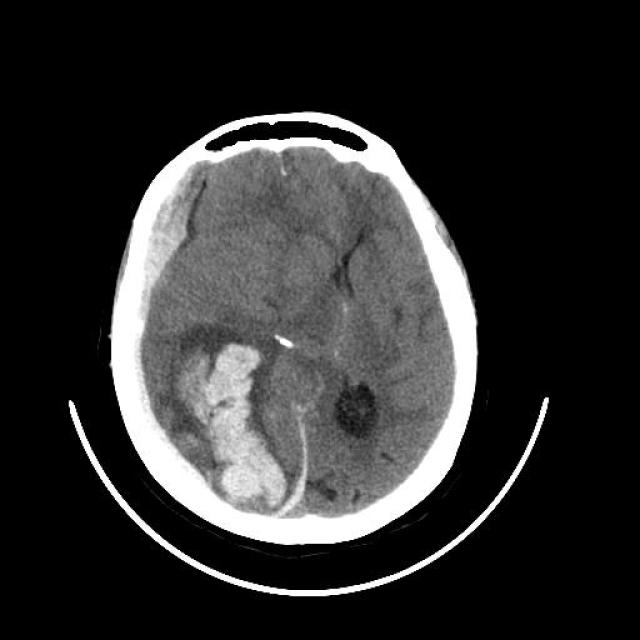Intraparenchymal: (166, 322, 300, 508), (272, 407, 334, 528)
Subdural: (83, 142, 215, 354)
